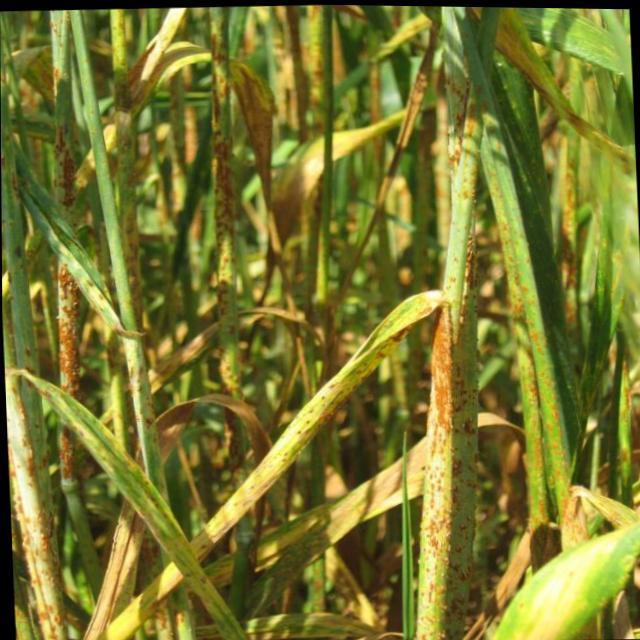Stem Rust: (184, 81, 483, 638), (482, 136, 570, 521)
